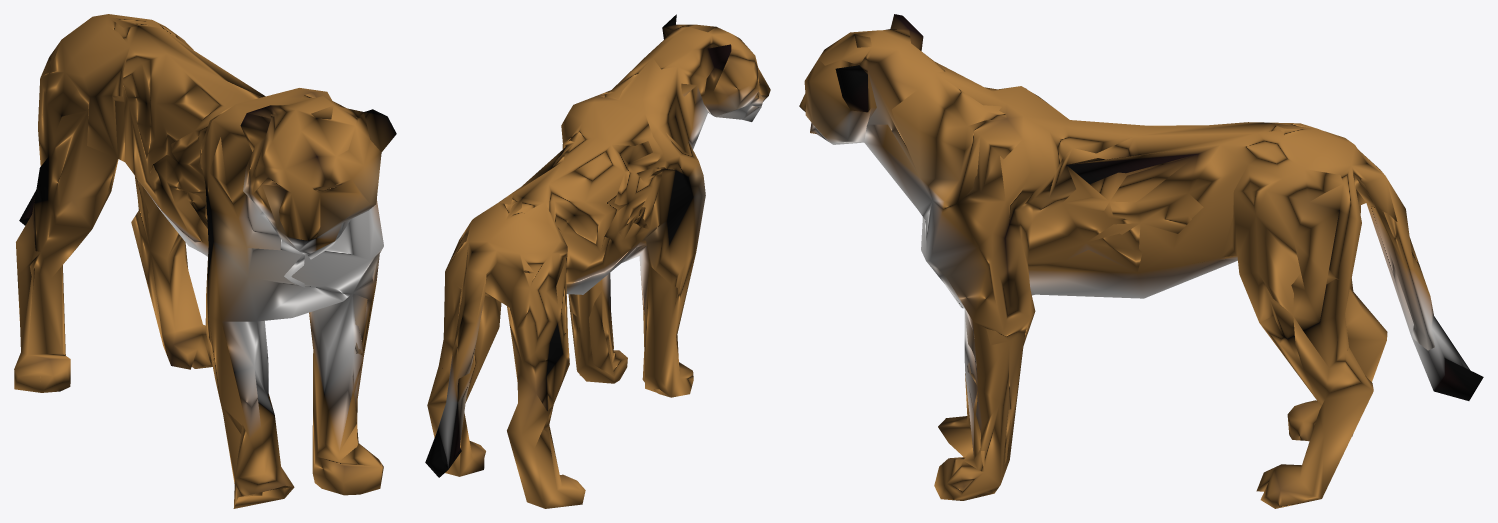
Rendered from gen3d-cheetah-lod1.glb.
3 renders of one model, left to right at view 1: azimuth 30°, elevation 25°; view 2: azimuth 150°, elevation 25°; view 3: azimuth 270°, elevation 25°, orthographic. The views are drawn at different scales.
Parts seen in each view (by area): view 1: part_0; view 2: part_0; view 3: part_0.
Part boxes in pixels (box(x1,y1,x2,y2)): part_0: box(14, 14, 396, 508); part_0: box(425, 14, 770, 508); part_0: box(799, 14, 1483, 508).
Size of the model in its own units: 0.4707 by 0.9974 by 1.48.
